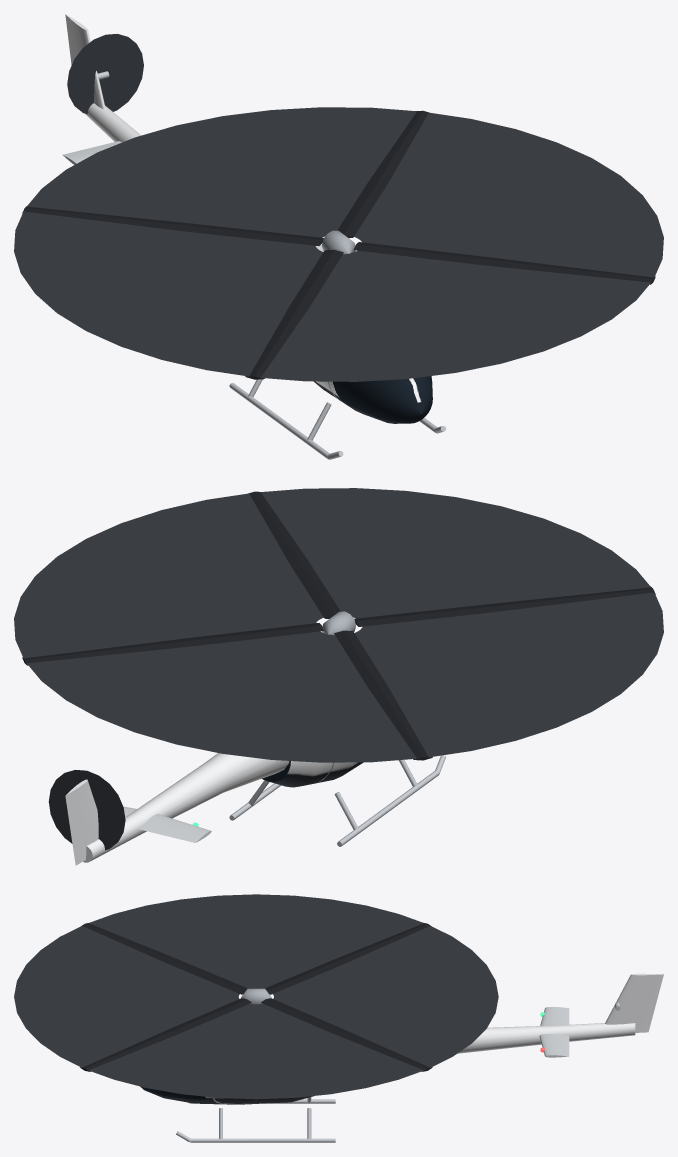
The model's file is heli.glb.
The picture shows the model from 3 angles, top to bottom: view 1: azimuth 30°, elevation 25°; view 2: azimuth 150°, elevation 25°; view 3: azimuth 270°, elevation 25°; orthographic projection. The views are drawn at different scales.
Parts seen in each view (by area): view 1: body, fixed; view 2: body, fixed; view 3: body, fixed.
Part boxes in pixels (x1=…): body: x1=14, y1=14, x2=663, y2=423; fixed: x1=229, y1=379, x2=446, y2=459; body: x1=14, y1=488, x2=663, y2=865; fixed: x1=229, y1=755, x2=445, y2=846; body: x1=14, y1=894, x2=663, y2=1104; fixed: x1=176, y1=1097, x2=335, y2=1142.
Bounding box in the file's own units: 11 × 3.72 × 14.75.
10 materials, 1 textured.
